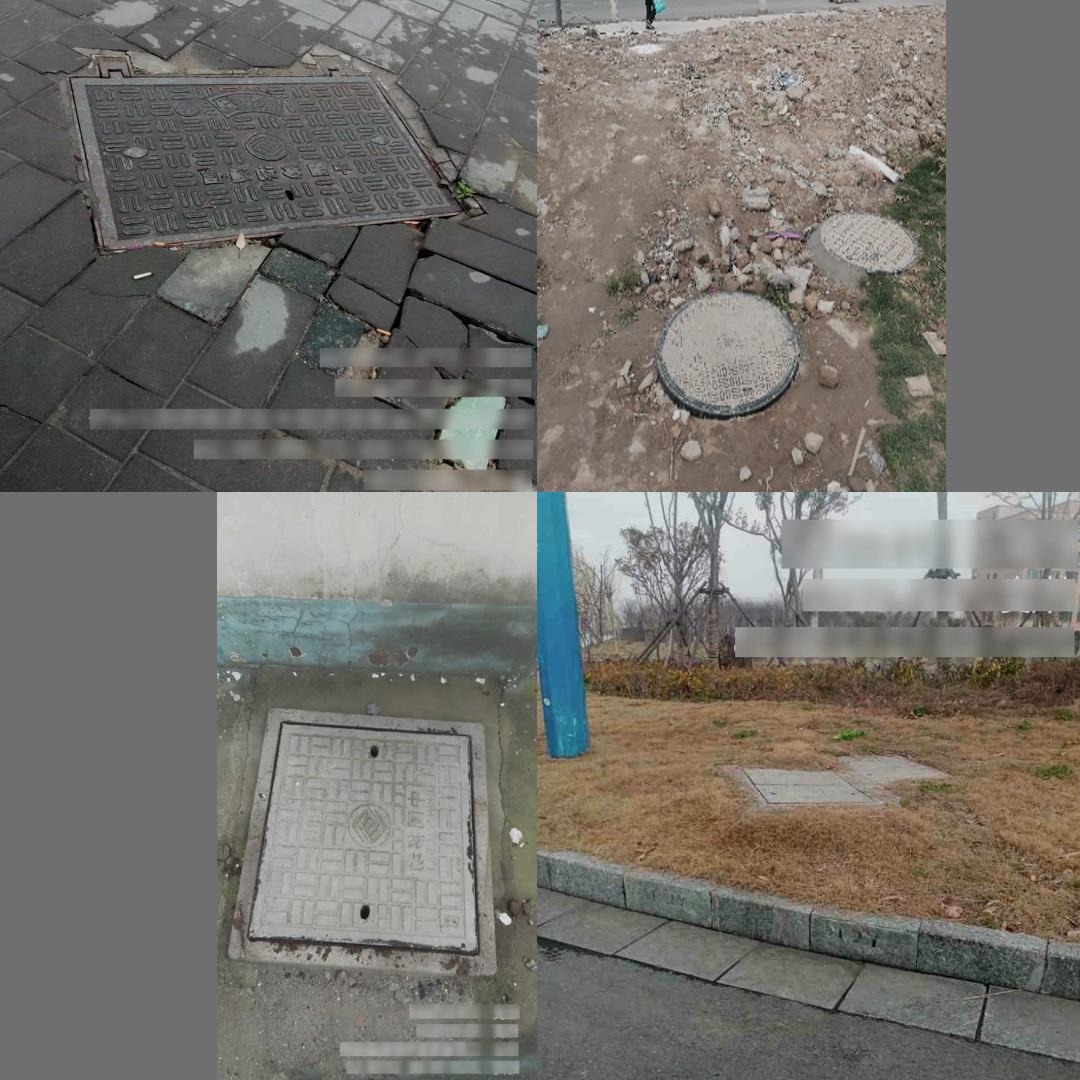good: (64, 57, 466, 255), (227, 705, 497, 974), (657, 290, 801, 415), (720, 730, 930, 806), (819, 210, 917, 274)
